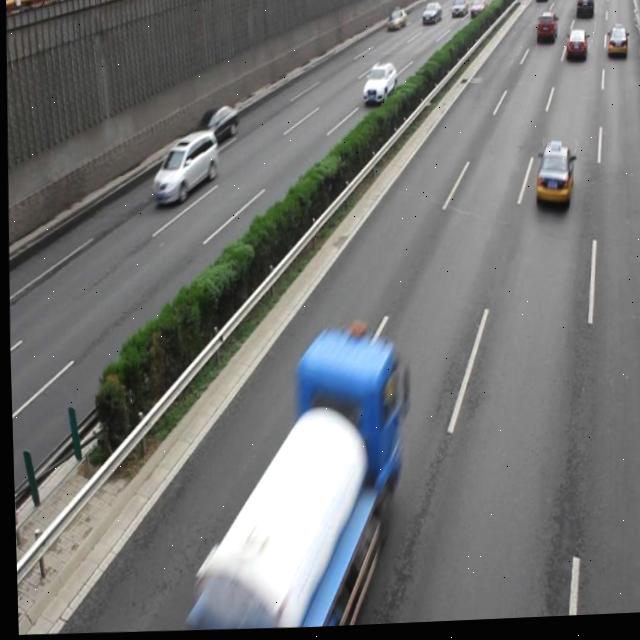bus: (168, 327, 399, 634)
car: (530, 146, 573, 215), (191, 105, 238, 144), (360, 62, 397, 108)
truck: (148, 129, 217, 207)
